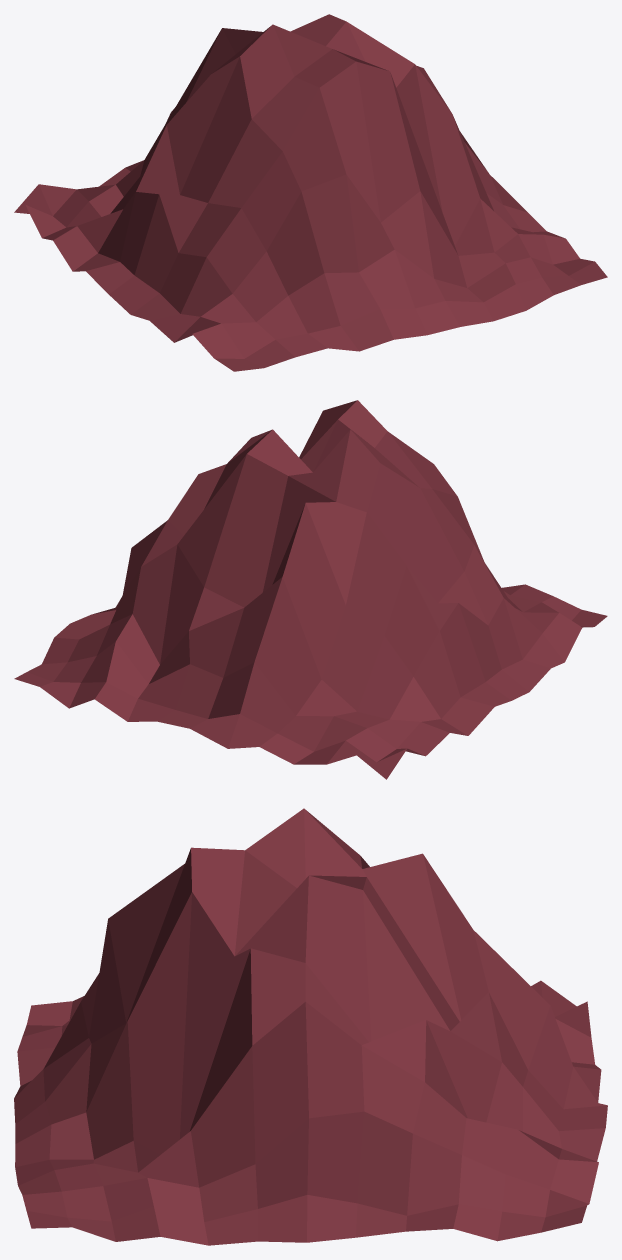
File: DirtAsset.fbx
3 renders of one model, top to bottom at view 1: azimuth 30°, elevation 25°; view 2: azimuth 150°, elevation 25°; view 3: azimuth 270°, elevation 25°, orthographic. The views are drawn at different scales.
Parts seen in each view (by area): view 1: Dirt; view 2: Dirt; view 3: Dirt.
Boxes of the visible parts, box(x1,y1,x2,y2) form: Dirt: box(14, 14, 607, 371); Dirt: box(14, 400, 607, 779); Dirt: box(14, 808, 607, 1245).
Size of the model in its own units: 275 by 155 by 281.
